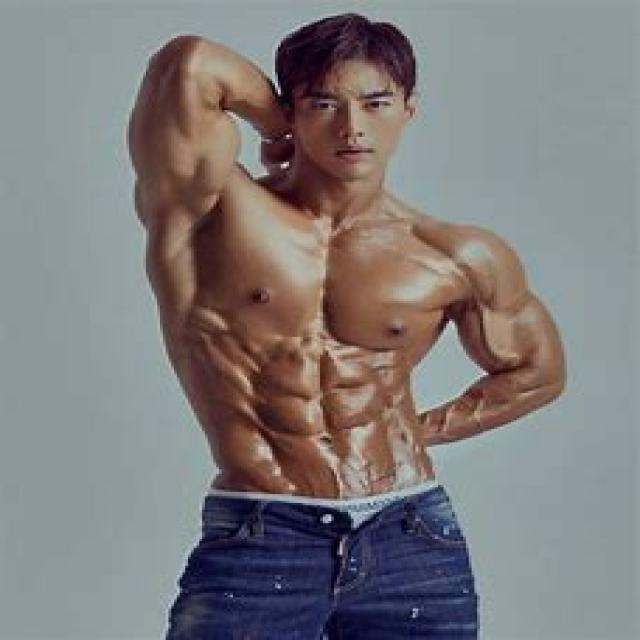stand: (149, 17, 460, 640)
